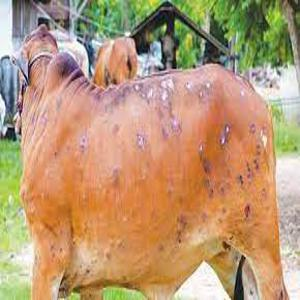lumpy skin diesease: (13, 22, 292, 299)
